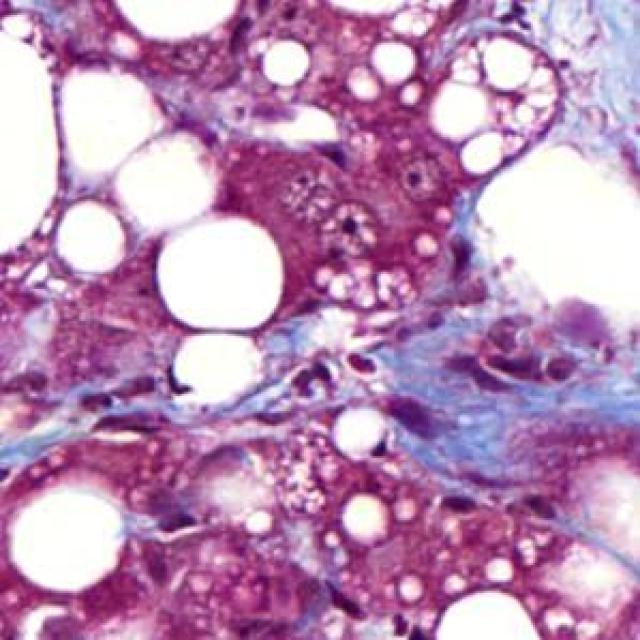steatosis: (150, 221, 287, 338), (15, 486, 128, 595)
